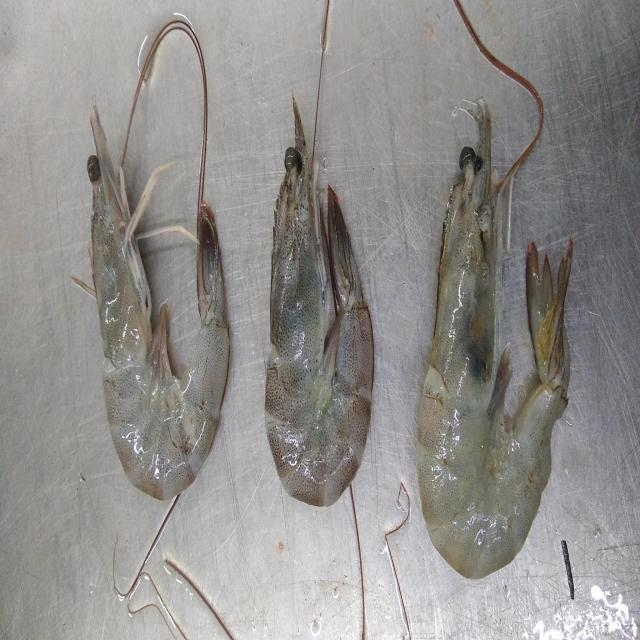shrimp: (416, 102, 572, 578)
